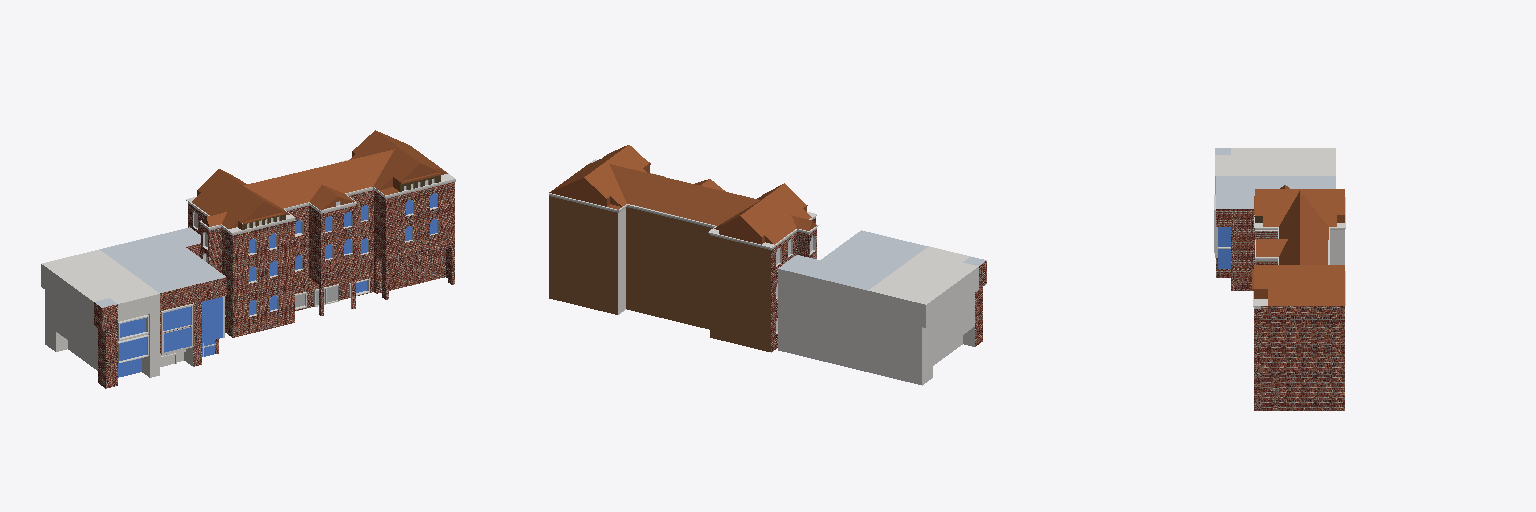
3 renders of one model, left to right at view 1: azimuth 30°, elevation 25°; view 2: azimuth 150°, elevation 25°; view 3: azimuth 270°, elevation 25°, orthographic.
Visible parts, largest first — view 1: Mesh2 Model, Mesh3 Model; view 2: Mesh2 Model, Mesh3 Model; view 3: Mesh2 Model, Mesh3 Model.
Boxes of the visible parts, x1=… form: Mesh2 Model: x1=186, y1=130, x2=455, y2=337; Mesh3 Model: x1=41, y1=227, x2=226, y2=388; Mesh2 Model: x1=549, y1=145, x2=818, y2=352; Mesh3 Model: x1=778, y1=230, x2=986, y2=385; Mesh2 Model: x1=1252, y1=185, x2=1345, y2=410; Mesh3 Model: x1=1214, y1=148, x2=1335, y2=290.
Size of the model in its own units: 80.21 by 26.76 by 24.71.
16 materials, 1 textured.